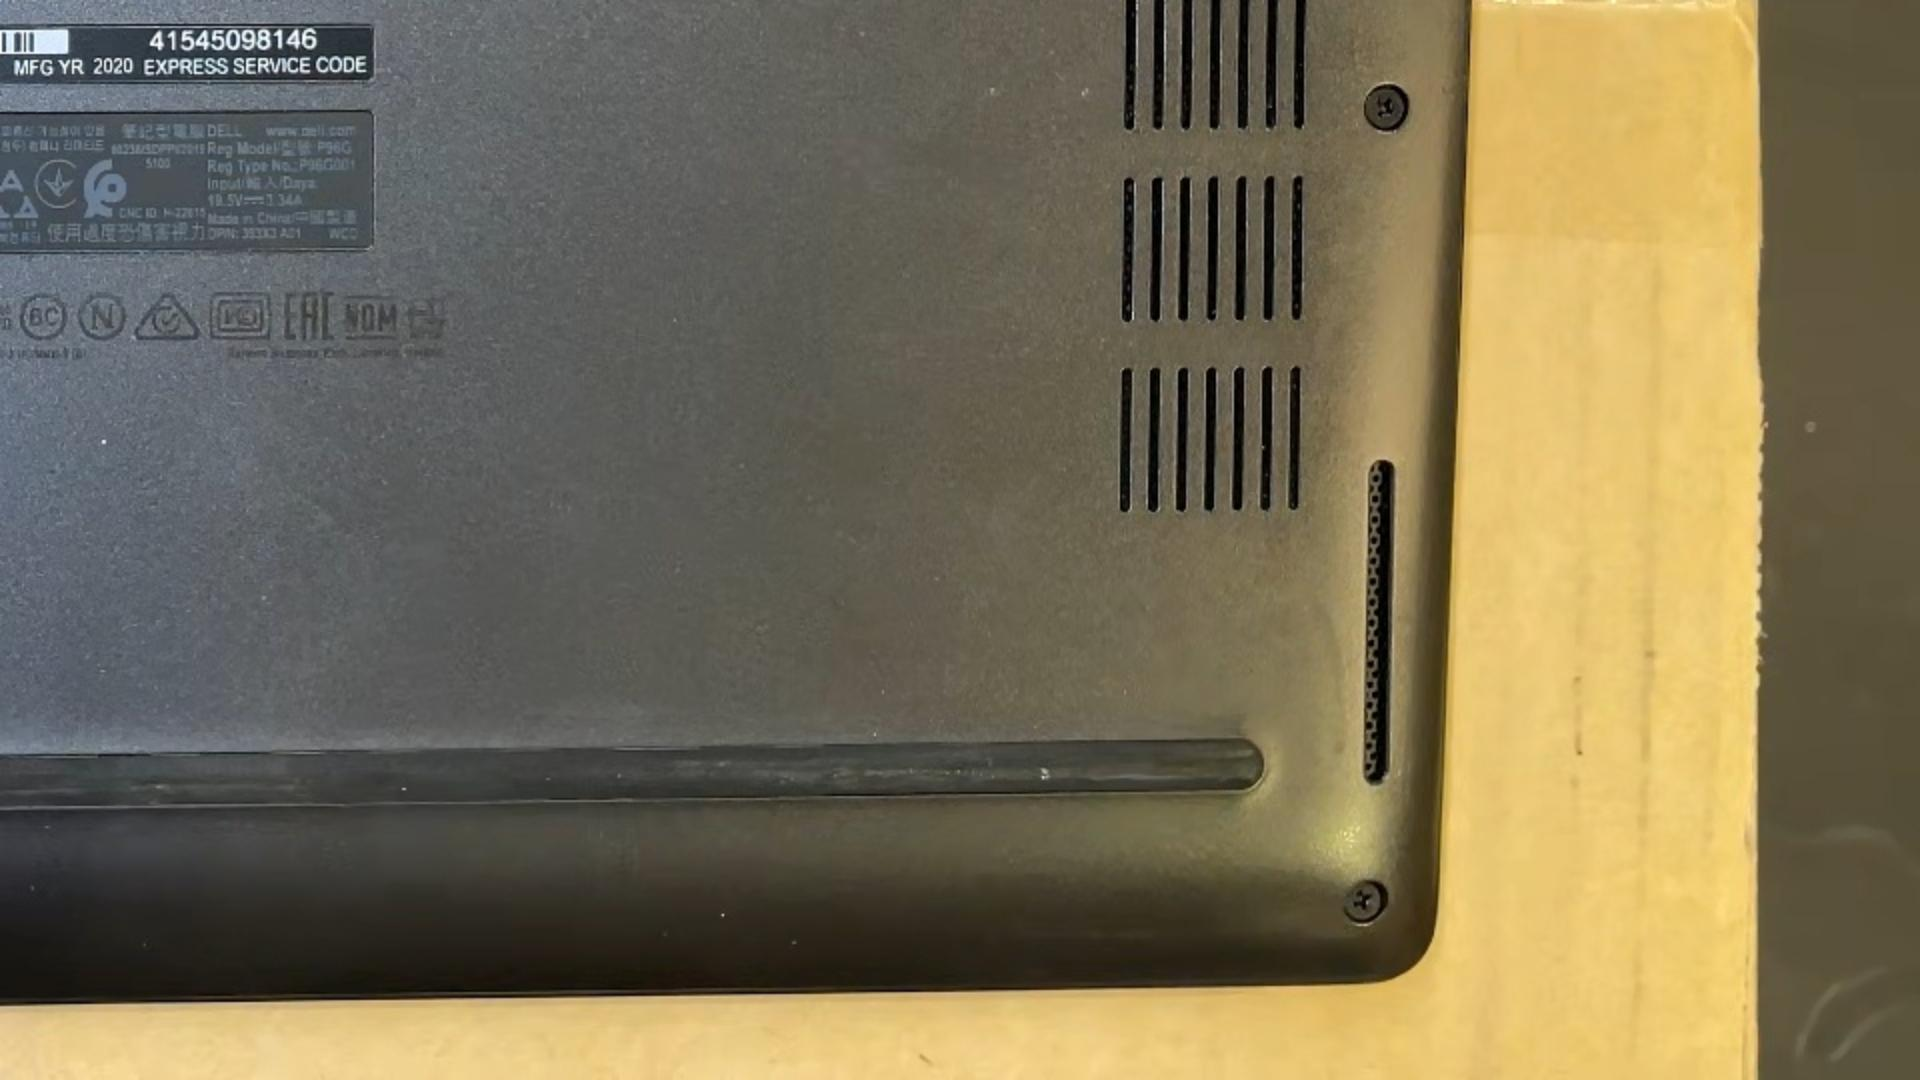chip: (94, 431, 115, 451), (1036, 764, 1054, 783), (984, 84, 1005, 100), (1079, 84, 1092, 100), (717, 911, 731, 920), (400, 786, 410, 794)
